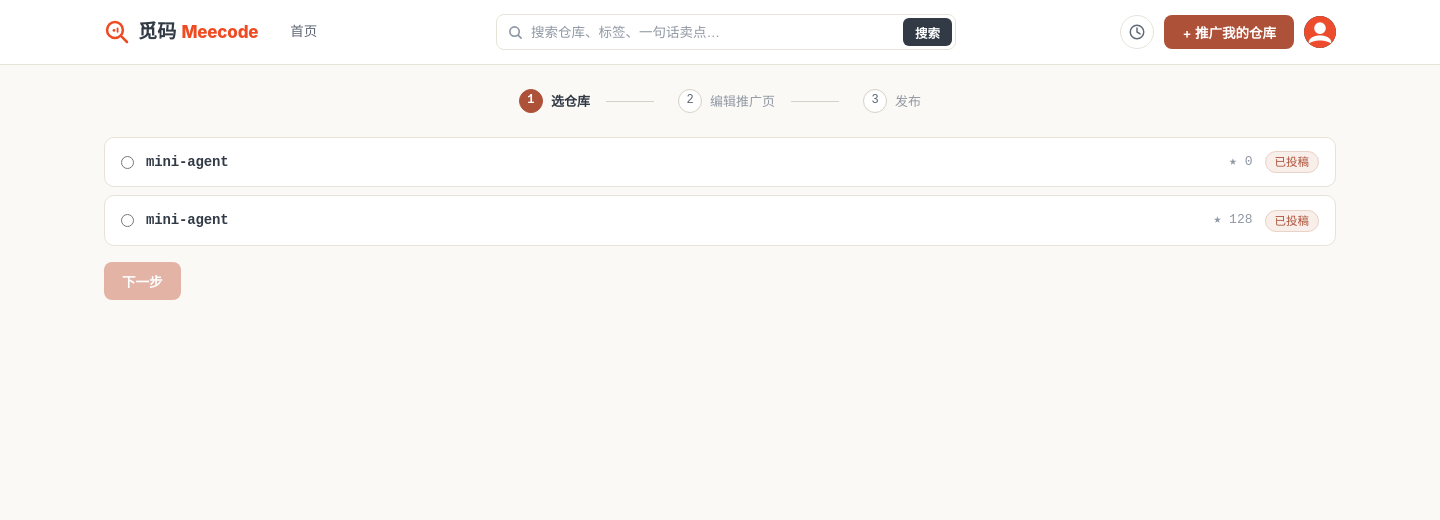
SubmitPage › 卖点字数计数实时更新
Click the radio button labelled "mini-agent ★ 0 已投稿" at (128, 162), box x1=121 y1=156 x2=134 y2=169
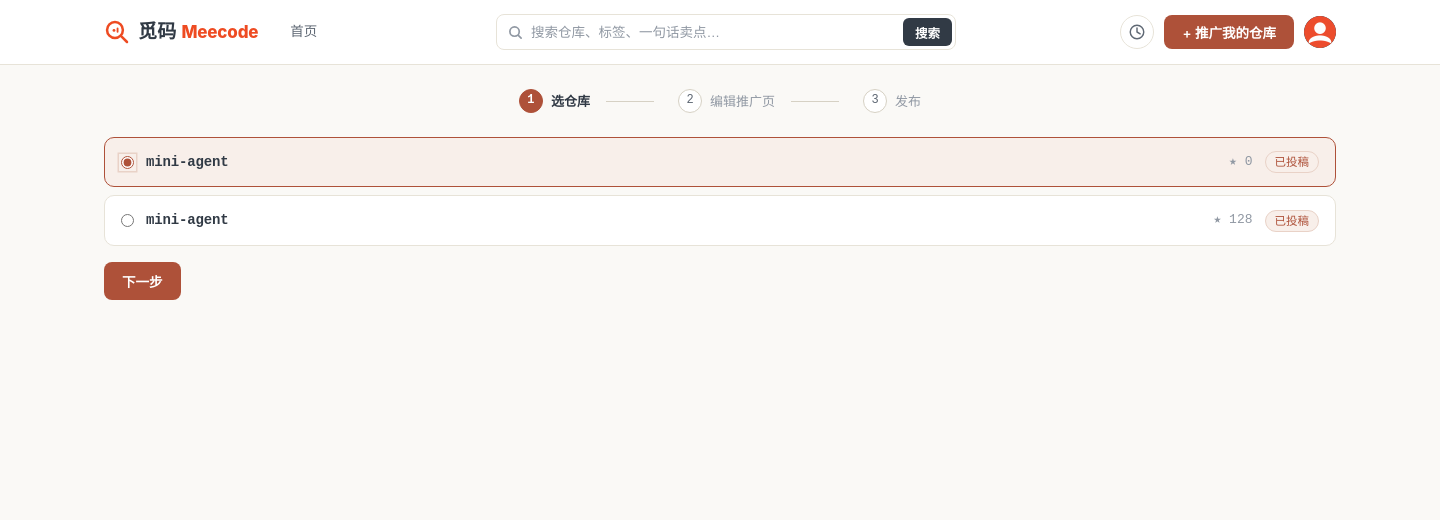
Click the button "下一步" at (142, 281), box x1=104 y1=262 x2=180 y2=300
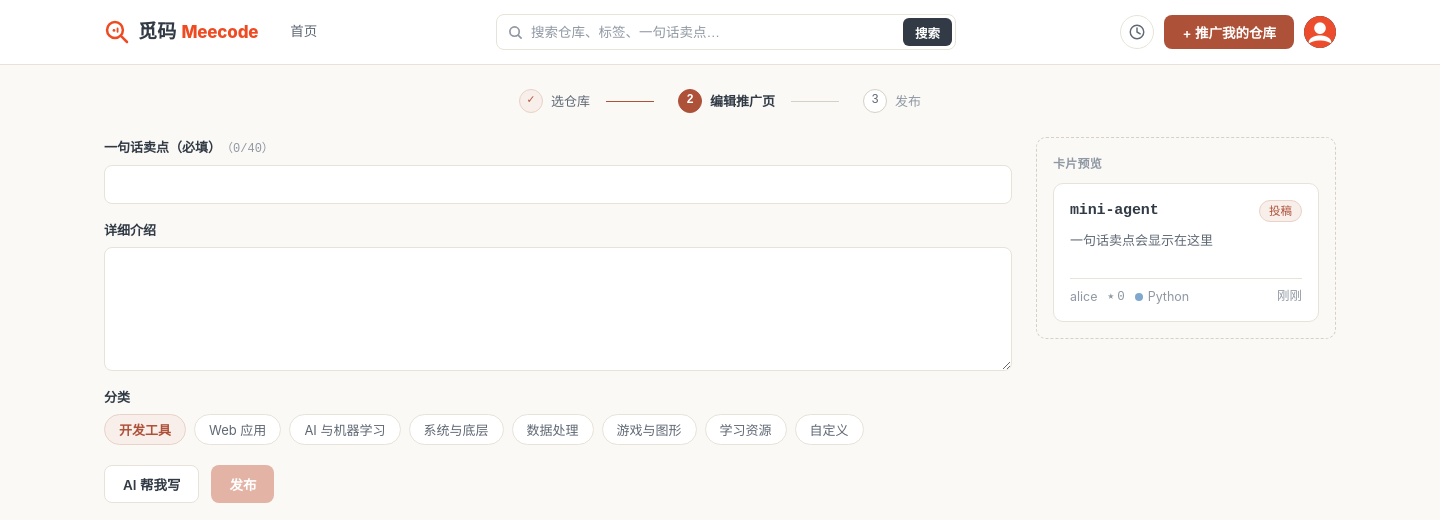
Type "abcde" into the field labelled "一句话卖点" at (558, 185), box x1=104 y1=165 x2=1012 y2=204
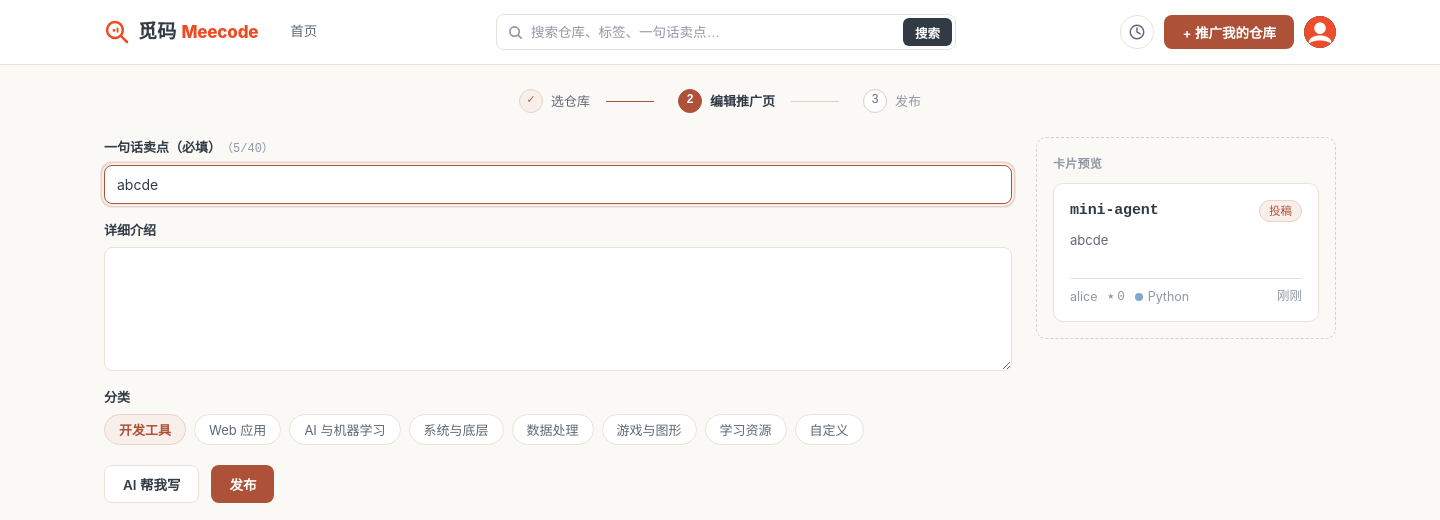
Check: the text "（5/40）" is shown, box x1=227 y1=142 x2=274 y2=156
